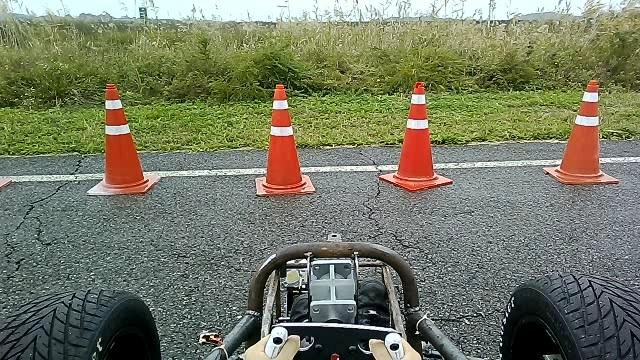red cone: (85, 82, 161, 195), (378, 80, 453, 190), (543, 78, 619, 185), (254, 83, 315, 196)
